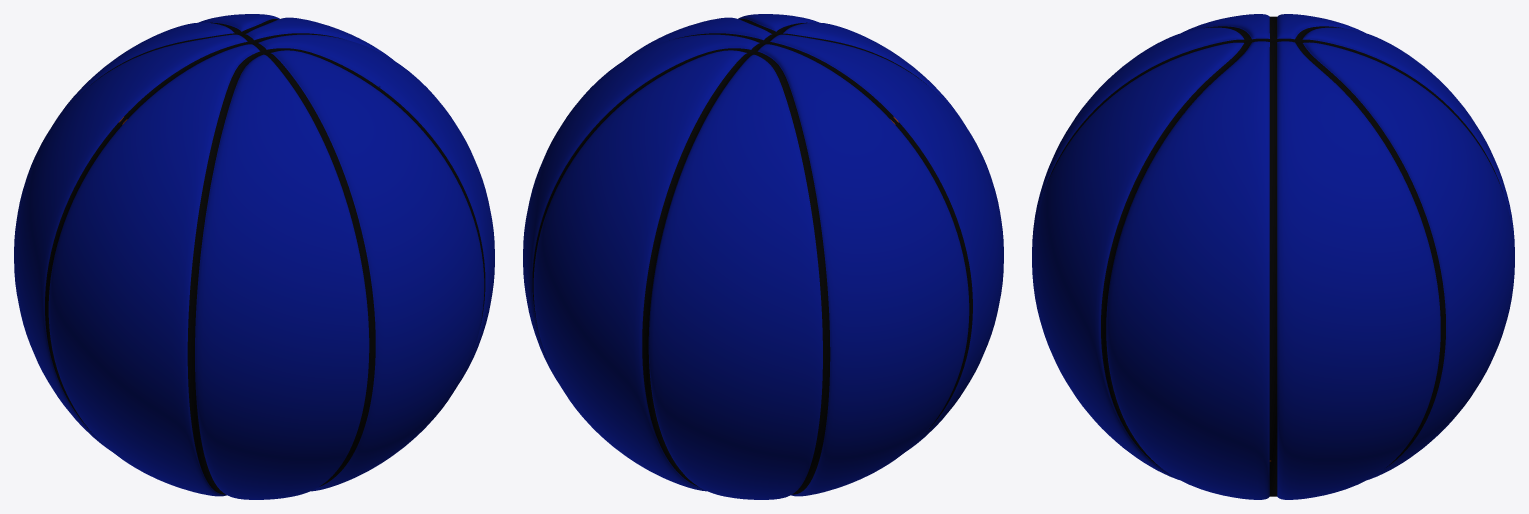
The model's file is item1.fbx.
3 renders of one model, left to right at view 1: azimuth 30°, elevation 25°; view 2: azimuth 150°, elevation 25°; view 3: azimuth 270°, elevation 25°, orthographic.
Parts seen in each view (by area): view 1: Item0.001; view 2: Item0.001; view 3: Item0.001.
Boxes of the visible parts, x1,y1,x2,y2 form: Item0.001: (14, 14, 494, 499); Item0.001: (523, 14, 1003, 499); Item0.001: (1032, 14, 1514, 499).
Size of the model in its own units: 193 by 194 by 193.
Materials: 1 (1 with a texture image).
